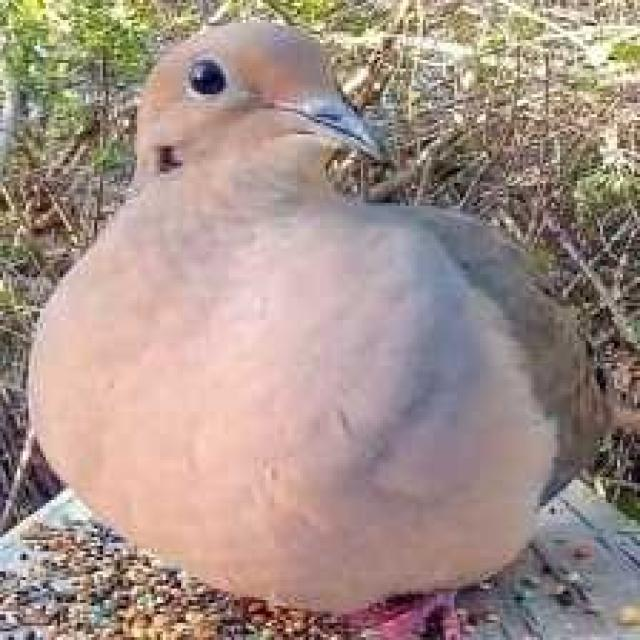bird: (32, 14, 616, 640)
